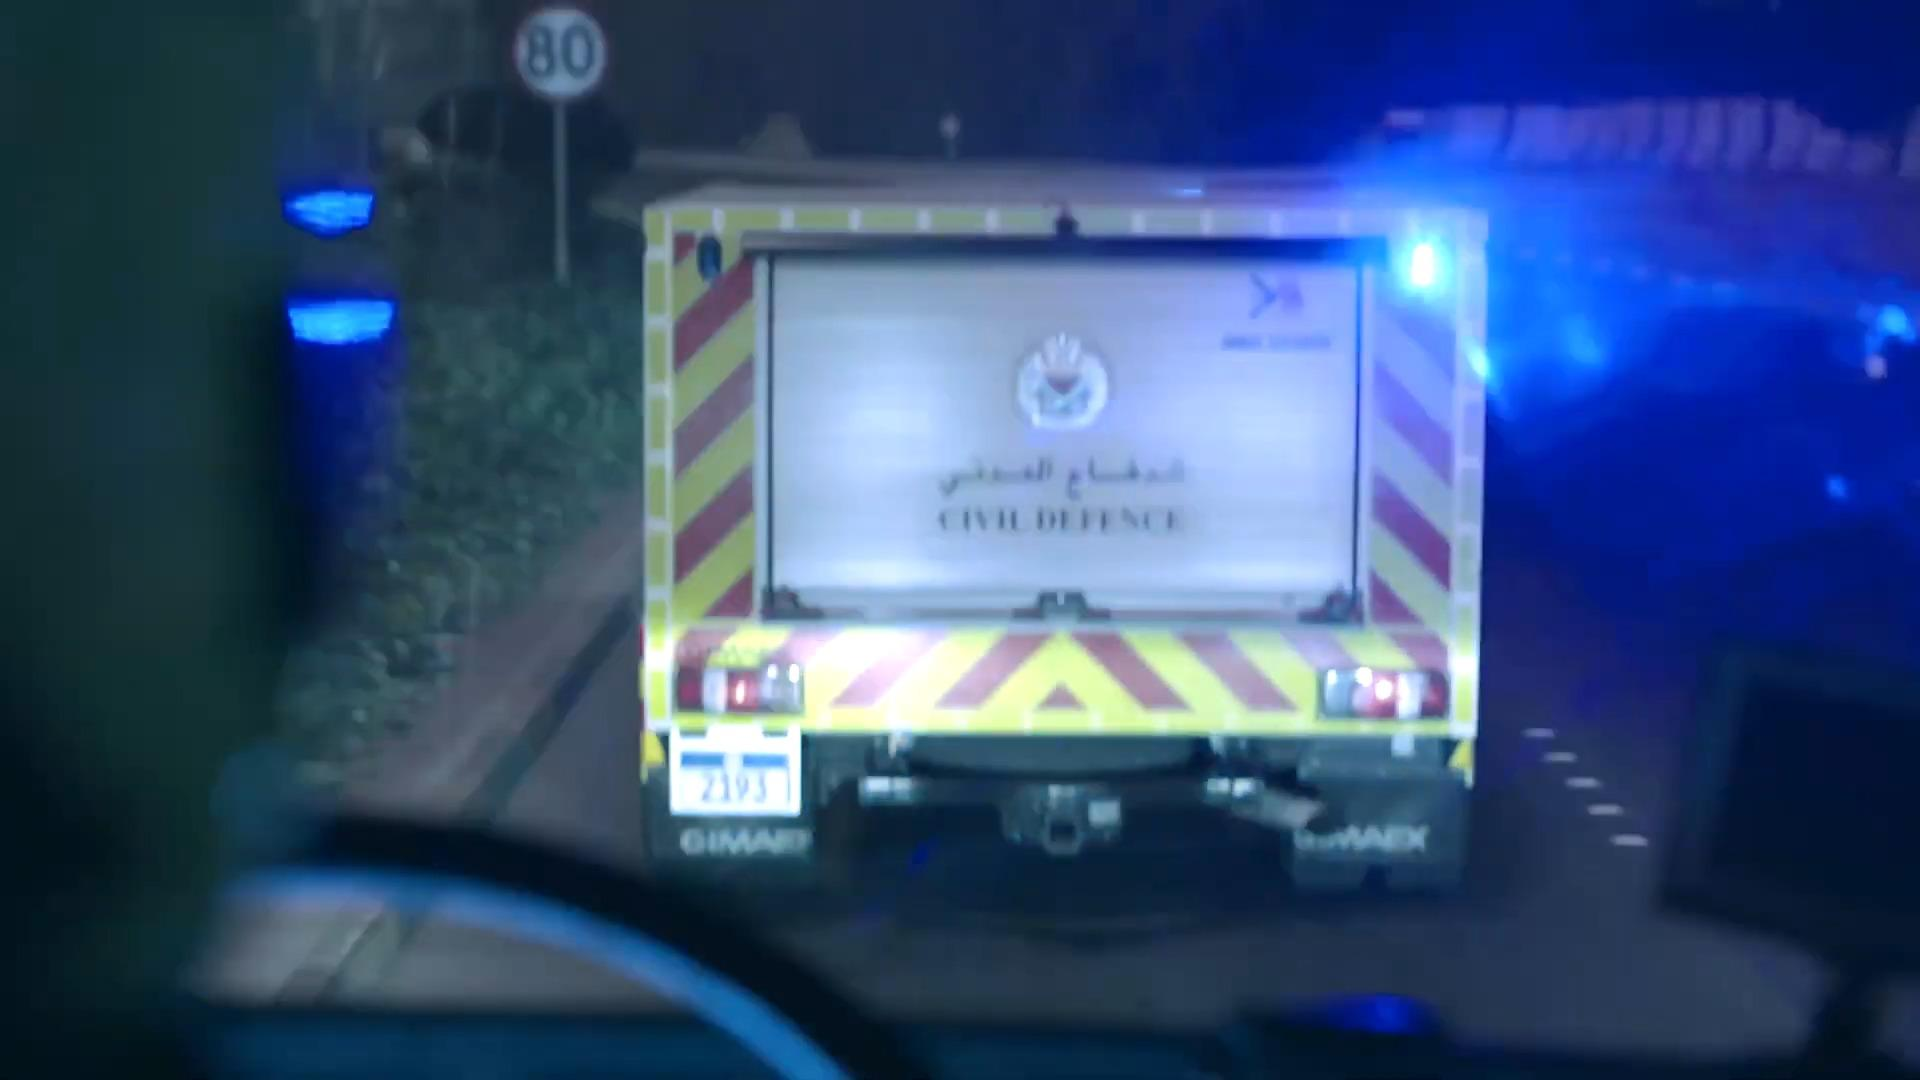firetruck_on: (636, 167, 1495, 901)
